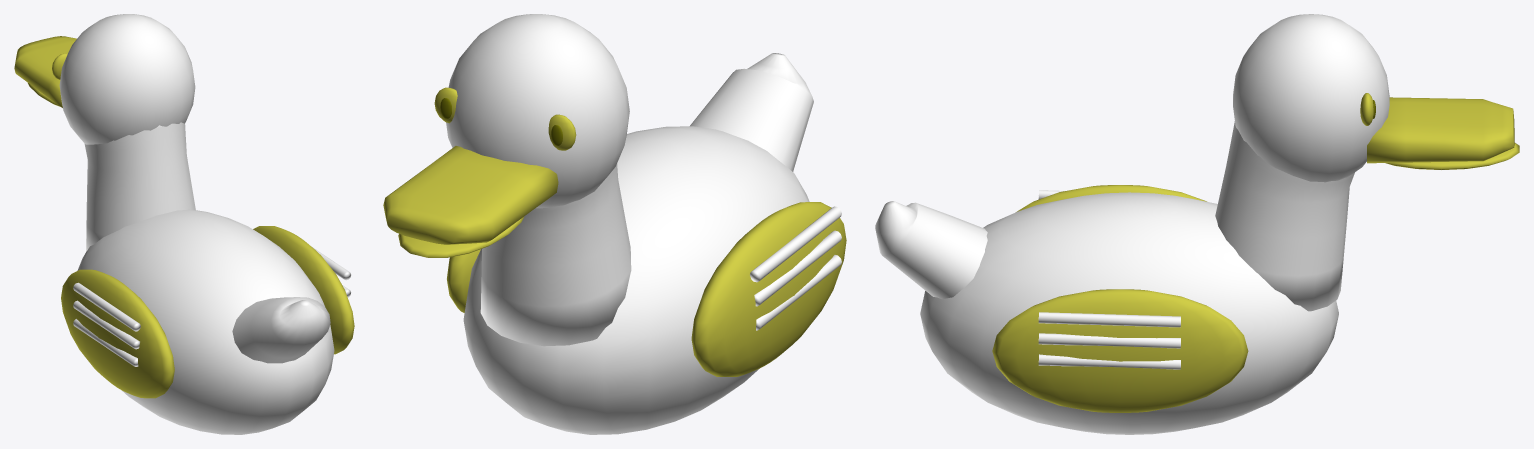
File: Duck.glb
The picture shows the model from 3 angles, left to right: view 1: azimuth 30°, elevation 25°; view 2: azimuth 150°, elevation 25°; view 3: azimuth 270°, elevation 25°; orthographic projection. The views are drawn at different scales.
Parts seen in each view (by area): view 1: Body, Head, LeftWing, Tail, RightWing; view 2: Body, Head, LeftWing, Tail, Jaw, RightWing; view 3: Body, Head, RightWing, Tail, LeftWing, Jaw.
Part boxes in pixels (x1,y1,x2,y2): Body: [77, 122, 334, 434]; Head: [14, 14, 195, 144]; LeftWing: [61, 269, 174, 398]; Tail: [232, 297, 330, 363]; RightWing: [253, 226, 354, 354]; Body: [463, 126, 809, 434]; Head: [383, 14, 629, 244]; LeftWing: [691, 202, 846, 376]; Tail: [690, 53, 813, 171]; Jaw: [398, 217, 523, 257]; RightWing: [447, 249, 480, 312]; Body: [920, 121, 1354, 434]; Head: [1233, 14, 1514, 182]; RightWing: [992, 289, 1248, 412]; Tail: [875, 201, 987, 299]; LeftWing: [1017, 185, 1206, 211]; Jaw: [1385, 143, 1519, 169].
Bounding box in the file's own units: 0.7023 × 1.04 × 1.51.
Materials: 1 (1 with a texture image).
